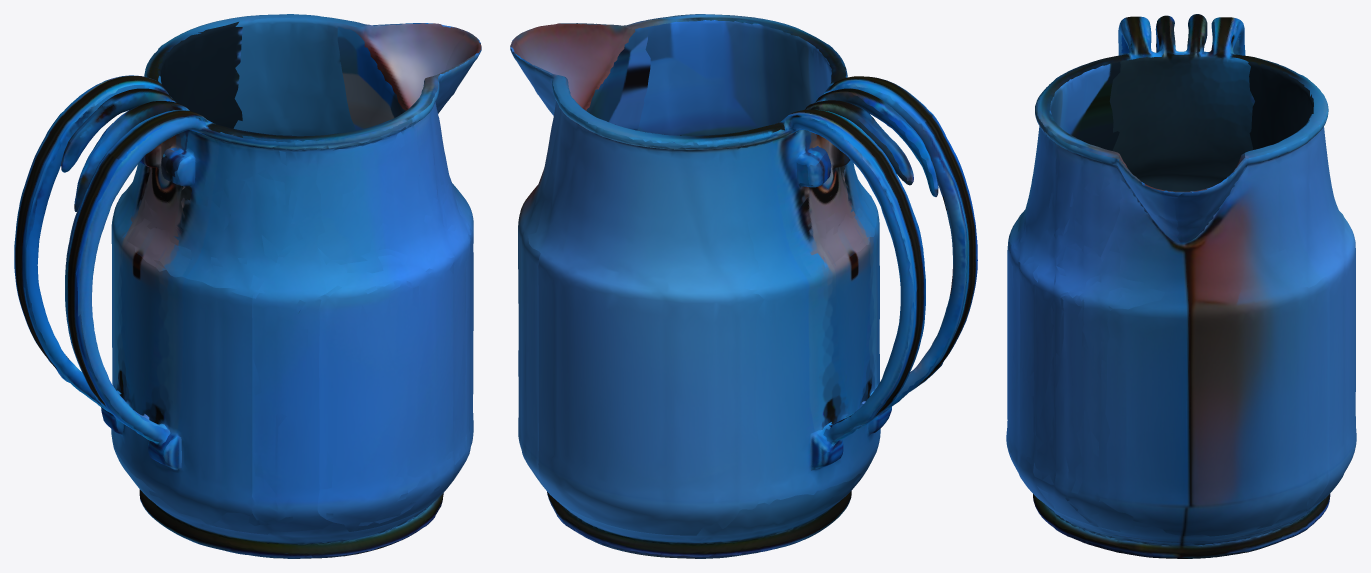
Rendered from bidon_agua.glb.
3 views of the same model, side by side, from view 1: azimuth 30°, elevation 25°; view 2: azimuth 150°, elevation 25°; view 3: azimuth 270°, elevation 25° (orthographic). The views are drawn at different scales.
Visible parts, largest first — view 1: tmpt4rkyqx1.ply; view 2: tmpt4rkyqx1.ply; view 3: tmpt4rkyqx1.ply.
Boxes of the visible parts, left/top/right/bottom form: tmpt4rkyqx1.ply: left=14, top=14, right=481, bottom=558; tmpt4rkyqx1.ply: left=510, top=14, right=977, bottom=558; tmpt4rkyqx1.ply: left=1006, top=14, right=1356, bottom=558.
Bounding box in the file's own units: 0.9893 × 0.9594 × 0.7415.
1 material, 1 textured.
